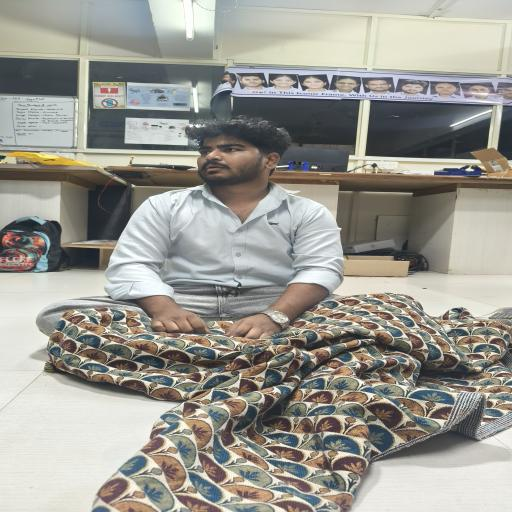survivor: (35, 116, 348, 342)
